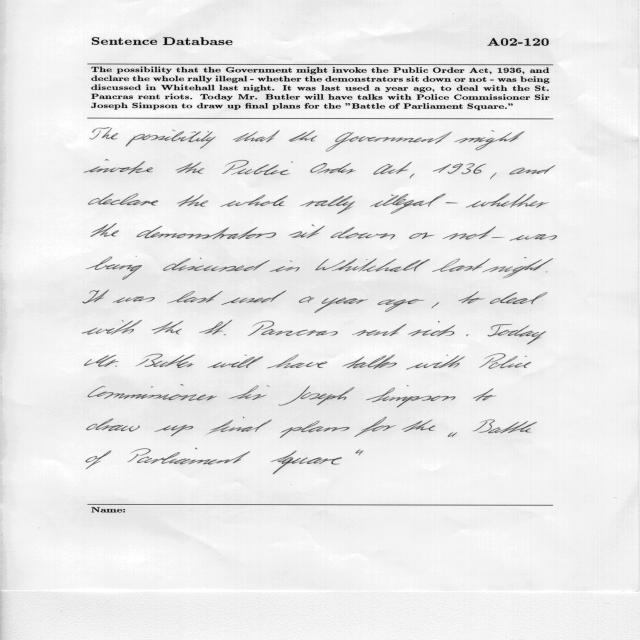word: (326, 132, 452, 152), (88, 384, 217, 401), (128, 448, 250, 465), (366, 385, 456, 408), (137, 226, 276, 239), (125, 130, 216, 149), (271, 451, 342, 475), (315, 258, 430, 272), (163, 257, 270, 272), (370, 193, 446, 214), (279, 386, 355, 406), (482, 257, 553, 278), (455, 131, 525, 151), (248, 321, 338, 336), (86, 256, 142, 280), (466, 193, 549, 208), (280, 421, 349, 438), (488, 324, 546, 344), (207, 417, 272, 434), (175, 160, 249, 174), (84, 159, 153, 174), (300, 196, 355, 214), (222, 290, 287, 305), (472, 420, 537, 434), (82, 320, 142, 335), (89, 193, 158, 206), (406, 355, 465, 370), (231, 161, 293, 175), (135, 354, 195, 368), (267, 355, 327, 369), (354, 417, 396, 437), (331, 227, 395, 240), (342, 354, 397, 369), (220, 195, 288, 207), (432, 258, 490, 272), (314, 298, 368, 313), (479, 354, 531, 369), (490, 292, 548, 305), (443, 226, 496, 240), (208, 355, 264, 368), (408, 321, 455, 336), (87, 419, 140, 432), (168, 291, 223, 303), (352, 324, 407, 336), (229, 385, 270, 400), (378, 299, 424, 312), (433, 164, 486, 175), (233, 130, 280, 142), (373, 162, 412, 175), (310, 163, 356, 174), (289, 225, 325, 239), (200, 320, 233, 335), (86, 450, 111, 469), (510, 165, 556, 175), (155, 425, 194, 436), (84, 355, 119, 367), (177, 194, 208, 207), (152, 321, 183, 334), (402, 420, 435, 432), (91, 223, 119, 237), (270, 260, 300, 272), (458, 291, 485, 304), (289, 130, 318, 142), (83, 290, 109, 303), (90, 128, 118, 140), (510, 234, 557, 241), (473, 388, 496, 401), (113, 296, 155, 303), (409, 233, 435, 239), (299, 296, 314, 303), (432, 302, 439, 309), (356, 450, 364, 456), (448, 432, 457, 437), (490, 173, 496, 180), (410, 174, 415, 179), (446, 202, 458, 203), (492, 237, 504, 238), (466, 334, 469, 336), (546, 272, 547, 273)
